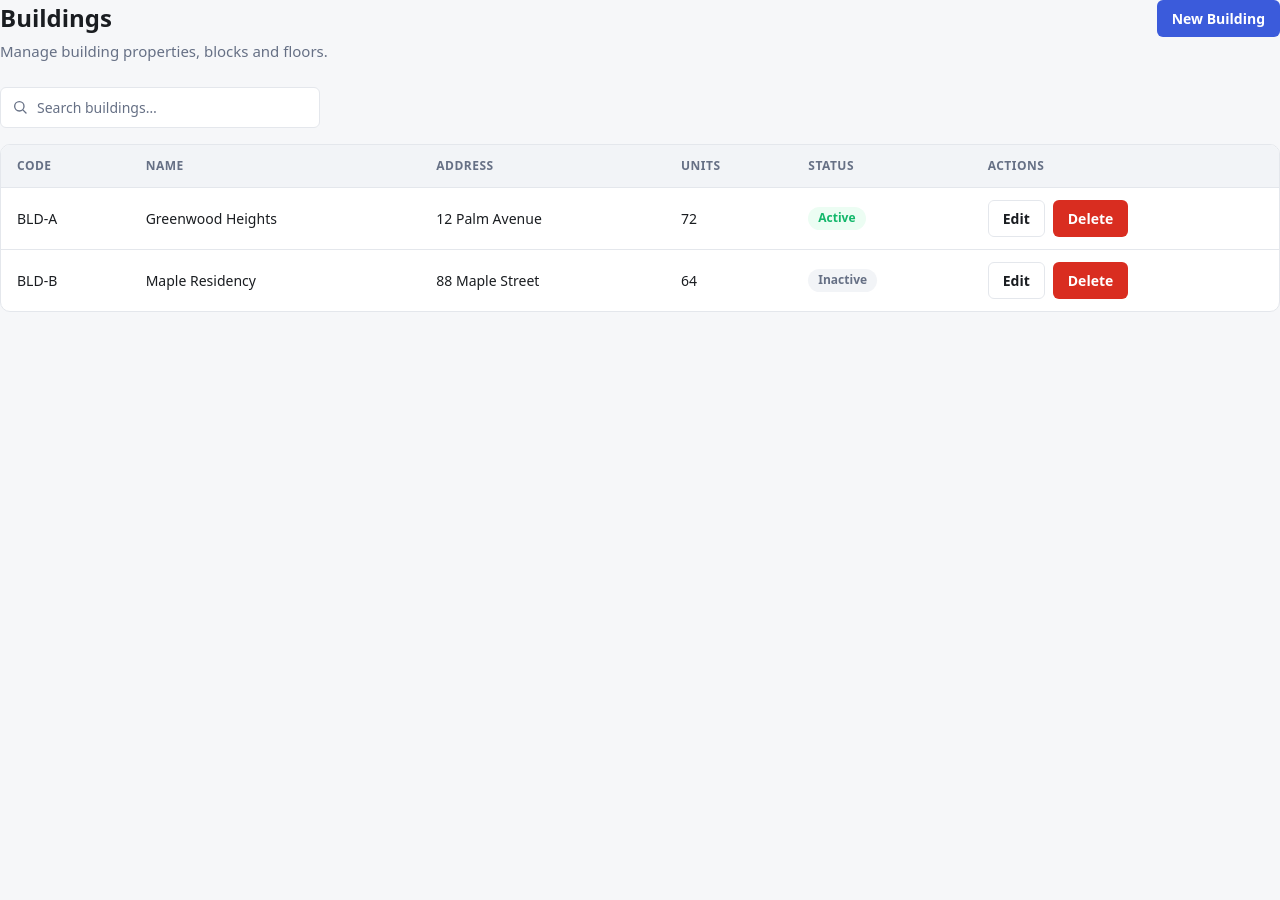
Test case: BuildingsPage CRUD functionality › shows required Name validation before creating
Expected: the text "Greenwood Heights" is shown, [130, 187, 420, 249]
Click the button "New Building". click: x=1218, y=18
box: [1157, 0, 1279, 37]
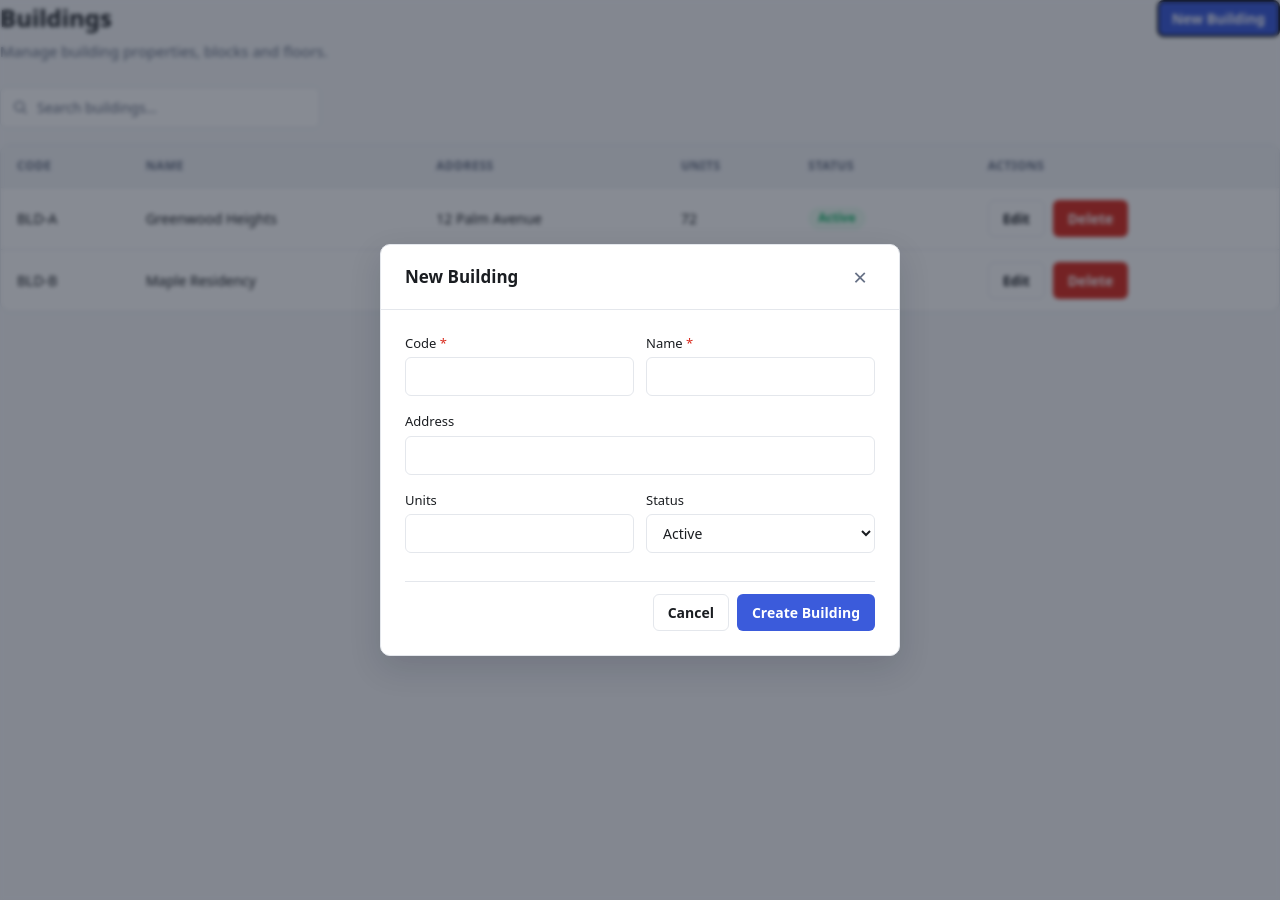
Type "BLD-C" into the field labelled "Code *". click: x=520, y=377
box: [405, 357, 634, 396]
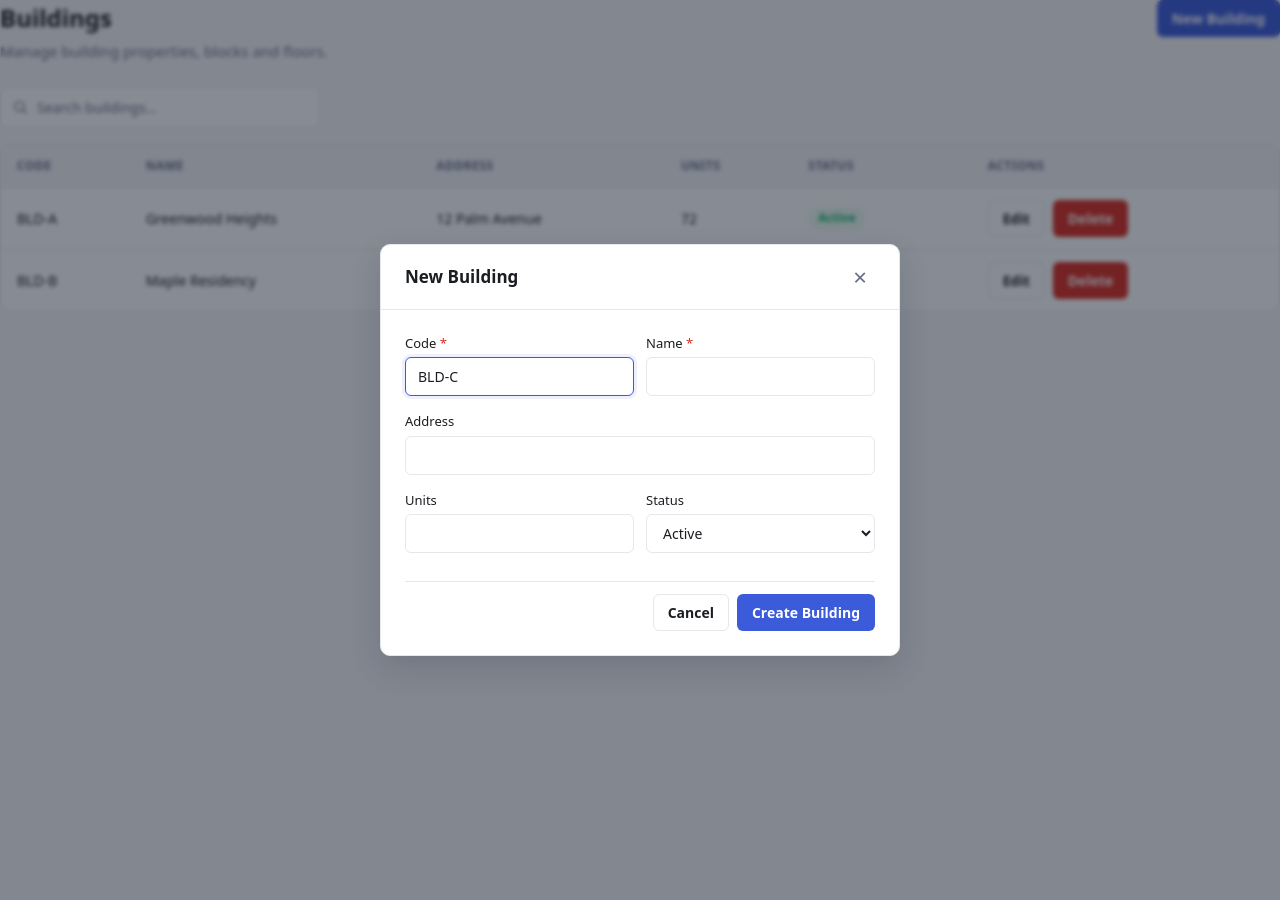
Click the button "Create Building". click: x=806, y=613
box: [737, 594, 875, 631]
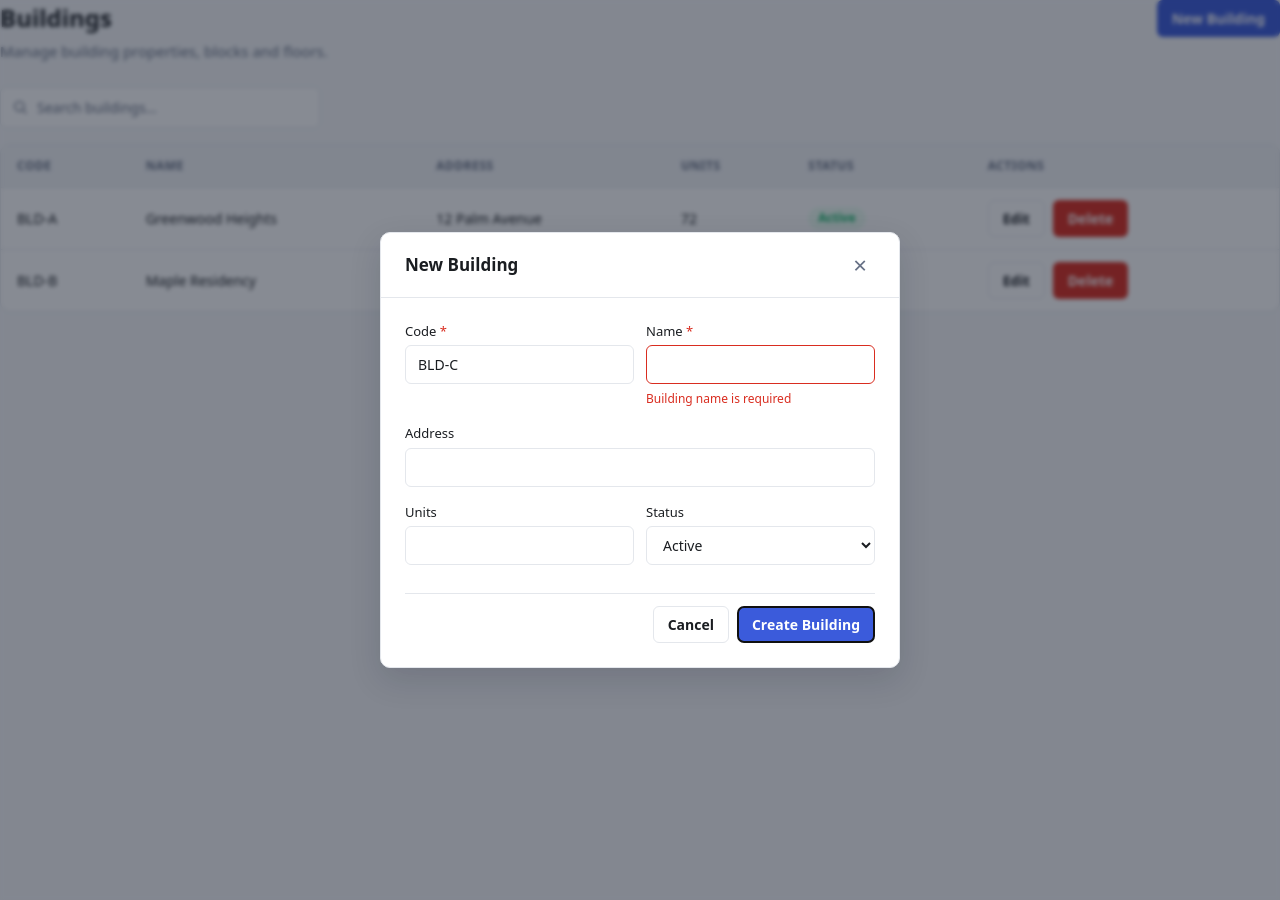
Result: the text "Building name is required" is shown at [646, 390, 791, 407]
